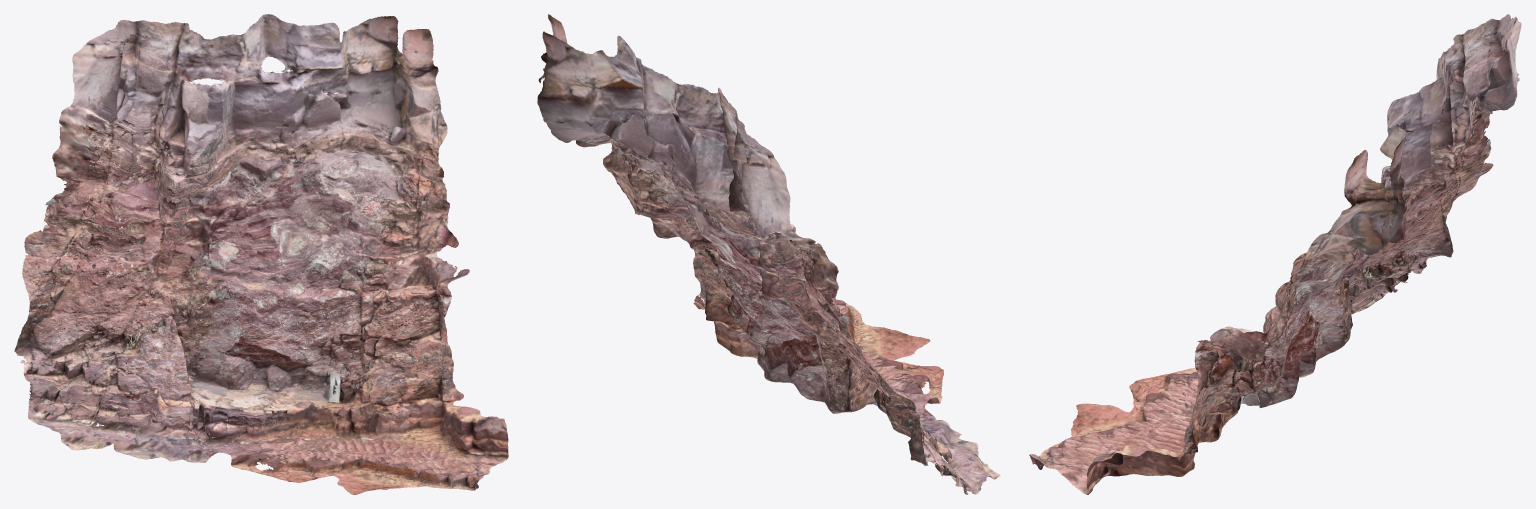
Rendered from stromatolite.glb.
3 views of the same model, side by side, from view 1: azimuth 30°, elevation 25°; view 2: azimuth 150°, elevation 25°; view 3: azimuth 270°, elevation 25° (orthographic). The views are drawn at different scales.
Visible parts, largest first — view 1: Object_2; view 2: Object_2; view 3: Object_2.
Boxes of the visible parts, bbox=[...] form: Object_2: bbox=[14, 14, 508, 494]; Object_2: bbox=[537, 14, 1000, 494]; Object_2: bbox=[1029, 14, 1521, 494].
Bounding box in the file's own units: 2.58 × 2.2 × 2.56.
Materials: 1 (1 with a texture image).
